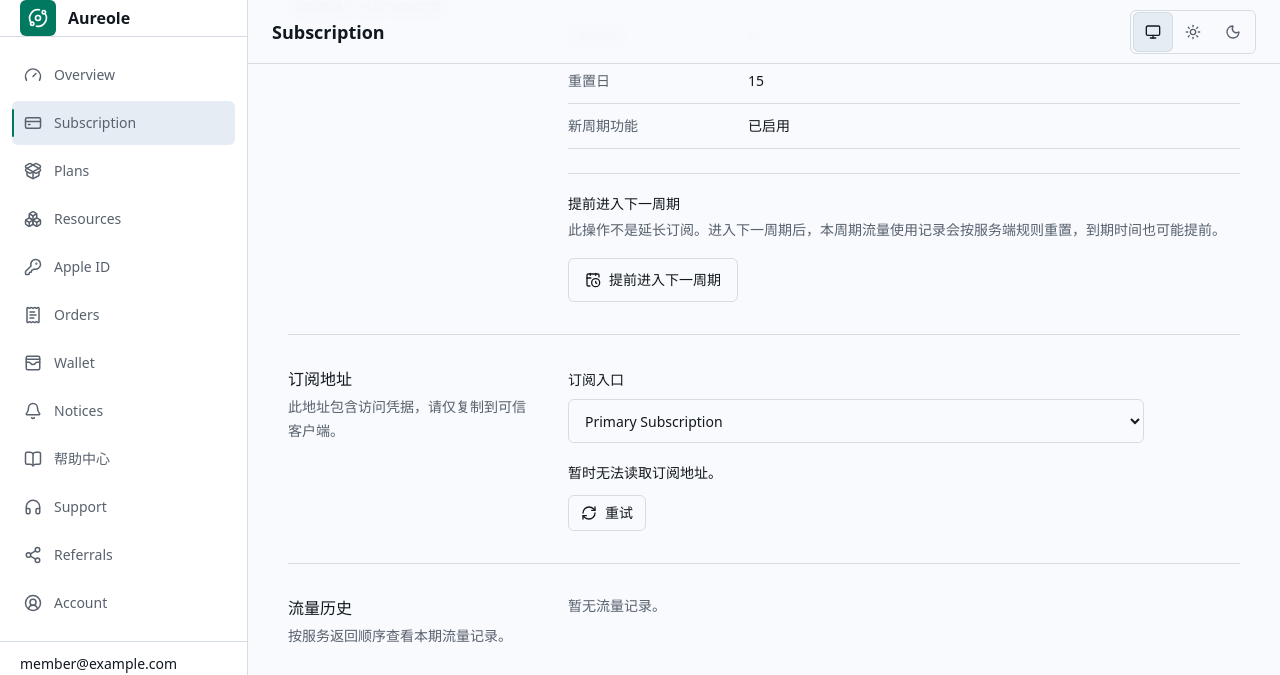
it: Subscription delivery selection and credential runtime › clears a failed credential and retries without restoring the old URL
(page scrolled)
Check: the text "暂时无法读取订阅地址。" is shown, box 568,463 -> 722,482
Check: the text "https://subscription.example/PRIMARY_TOKEN" is not shown
Click the button "重试" at (607, 513), box 568,495 -> 646,531
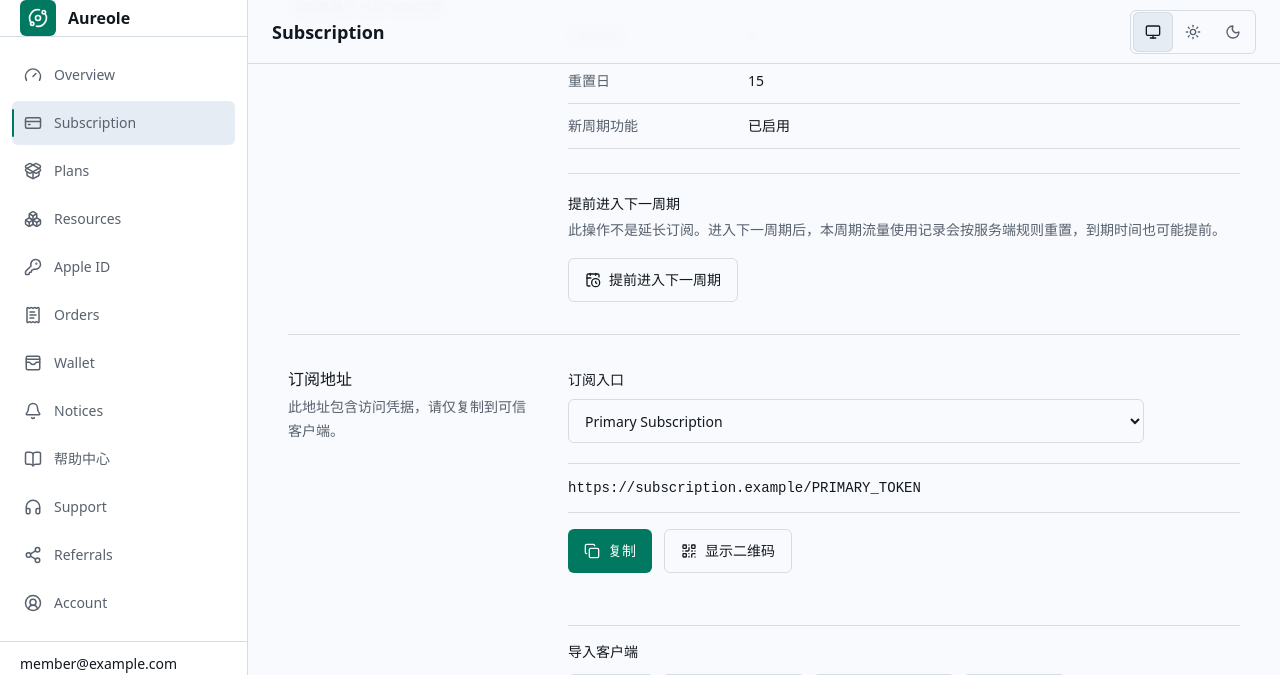
Check: the text "https://subscription.example/PRIMARY_TOKEN" is shown, box 568,480 -> 921,496
